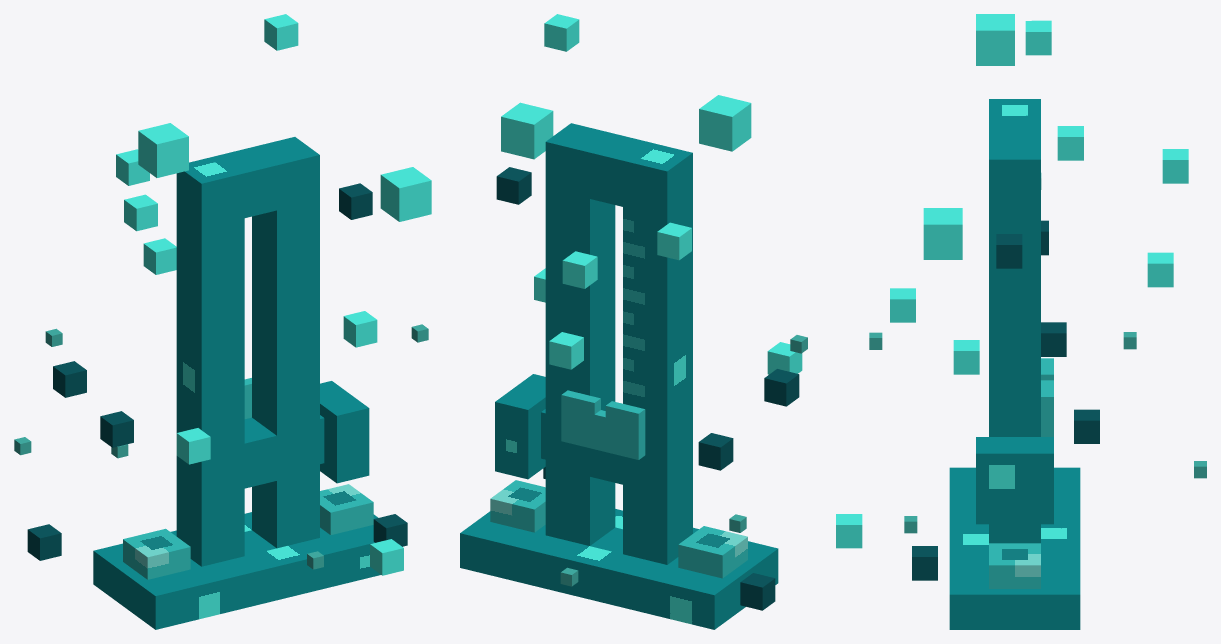
File: icon_hauntedsights.gltf
The picture shows the model from 3 angles, left to right: view 1: azimuth 30°, elevation 25°; view 2: azimuth 150°, elevation 25°; view 3: azimuth 270°, elevation 25°; orthographic projection. The views are drawn at different scales.
Parts seen in each view (by area): view 1: iocn-Local, p9-Local, p8-Local, c2-Local, d5$$(2)-Local, d4-Local, d4$$(1)-Local, d1-Local, c3$$(2)-Local, c1-Local, c1$$(2)-Local, d1$$(2)-Local (+3 smaller); view 2: iocn-Local, p8-Local, p9-Local, d5$$(2)-Local, c1$$(2)-Local, c1-Local, c2-Local, c3$$(2)-Local, d2$$(2)-Local, d1-Local, d1$$(2)-Local, d4-Local; view 3: iocn-Local, p9-Local, p8-Local, d1$$(2)-Local, d5$$(2)-Local, d1-Local, c1-Local, d4$$(1)-Local, d2$$(2)-Local, d1$$(1)-Local, d4-Local, c2-Local (+2 smaller).
Part boxes in pixels (bbox=[...]): iocn-Local: bbox=[93, 137, 402, 629]; p9-Local: bbox=[380, 167, 431, 221]; p8-Local: bbox=[138, 123, 188, 177]; c2-Local: bbox=[27, 524, 61, 560]; d5$$(2)-Local: bbox=[264, 14, 298, 50]; d4-Local: bbox=[176, 428, 210, 464]; d4$$(1)-Local: bbox=[343, 311, 377, 347]; d1-Local: bbox=[124, 194, 157, 231]; c3$$(2)-Local: bbox=[53, 361, 86, 397]; c1-Local: bbox=[339, 183, 372, 219]; c1$$(2)-Local: bbox=[100, 411, 133, 447]; d1$$(2)-Local: bbox=[143, 238, 176, 274]; iocn-Local: bbox=[460, 123, 778, 629]; p8-Local: bbox=[699, 95, 751, 151]; p9-Local: bbox=[501, 102, 553, 159]; d5$$(2)-Local: bbox=[544, 14, 579, 51]; c1$$(2)-Local: bbox=[698, 433, 733, 470]; c1-Local: bbox=[496, 167, 531, 204]; c2-Local: bbox=[740, 573, 775, 610]; c3$$(2)-Local: bbox=[764, 369, 799, 406]; d2$$(2)-Local: bbox=[562, 251, 597, 288]; d1-Local: bbox=[657, 222, 691, 260]; d1$$(2)-Local: bbox=[549, 332, 583, 369]; d4-Local: bbox=[767, 342, 802, 374]; iocn-Local: bbox=[949, 99, 1080, 629]; p9-Local: bbox=[923, 208, 962, 259]; p8-Local: bbox=[976, 14, 1014, 65]; d1$$(2)-Local: bbox=[1147, 252, 1173, 287]; d5$$(2)-Local: bbox=[1025, 20, 1051, 55]; d1-Local: bbox=[1057, 126, 1083, 160]; c1-Local: bbox=[996, 234, 1022, 268]; d4$$(1)-Local: bbox=[953, 340, 979, 374]; d2$$(2)-Local: bbox=[1162, 149, 1188, 183]; d1$$(1)-Local: bbox=[836, 514, 862, 548]; d4-Local: bbox=[890, 288, 915, 322]; c2-Local: bbox=[1074, 409, 1099, 443].
Size of the model in its own units: 30.65 by 47.65 by 28.44.
Materials: 21 (21 with a texture image).
